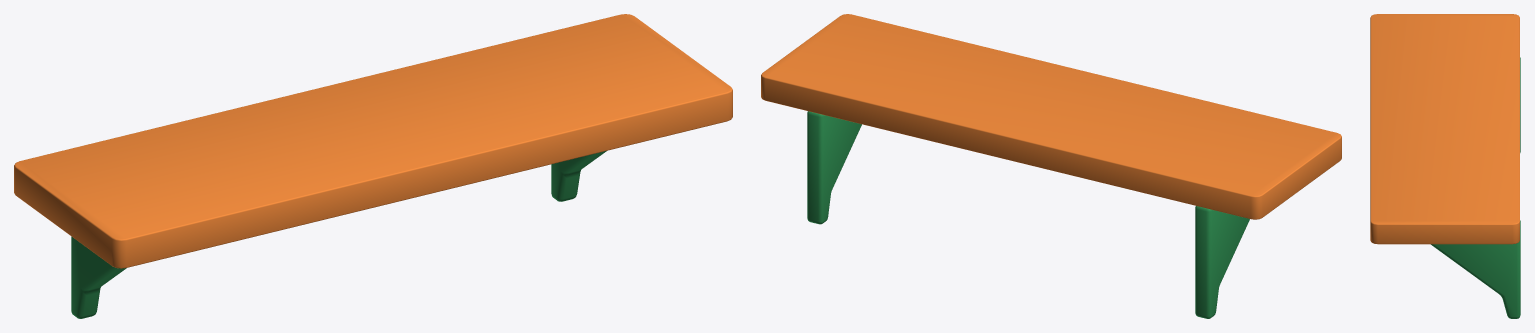
Rendered from prateleira_cozinha_verde.glb.
The picture shows the model from 3 angles, left to right: view 1: azimuth 30°, elevation 25°; view 2: azimuth 150°, elevation 25°; view 3: azimuth 270°, elevation 25°; orthographic projection. The views are drawn at different scales.
Visible parts, largest first — view 1: prateleira_cozinha_verde; view 2: prateleira_cozinha_verde; view 3: prateleira_cozinha_verde.
Boxes of the visible parts, box(x1,y1,x2,y2) form: prateleira_cozinha_verde: box(14, 14, 732, 318); prateleira_cozinha_verde: box(761, 14, 1341, 318); prateleira_cozinha_verde: box(1370, 14, 1520, 318).
Bounding box in the file's own units: 0.8 × 0.206 × 0.241.
Materials: 1 (1 with a texture image).
